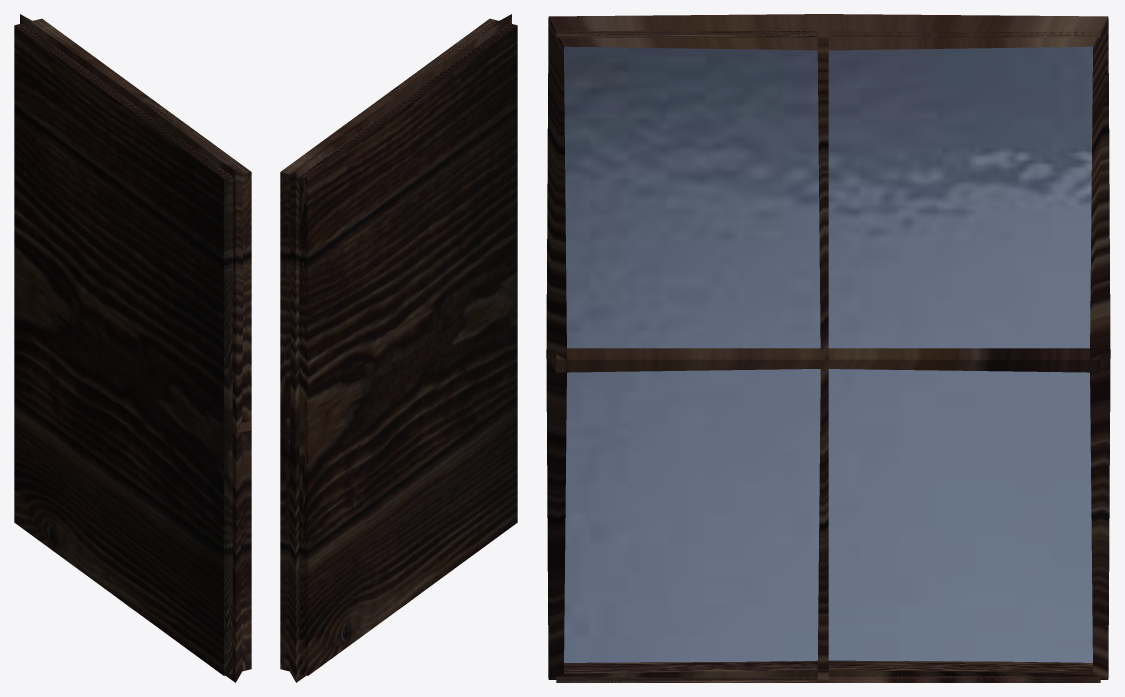
File: WindowReg.glb
The picture shows the model from 3 angles, left to right: view 1: azimuth 30°, elevation 25°; view 2: azimuth 150°, elevation 25°; view 3: azimuth 270°, elevation 25°; orthographic projection. The views are drawn at different scales.
Visible parts, largest first — view 1: Cube; view 2: Cube; view 3: Cube.002, Cube.
Boxes of the visible parts, x1,y1,x2,y2 form: Cube: (14, 14, 251, 682); Cube: (280, 14, 517, 682); Cube.002: (564, 46, 1092, 662); Cube: (546, 14, 1110, 682).
Size of the model in its own units: 0.0646 by 1.14 by 0.8702.
2 materials, 2 textured.
